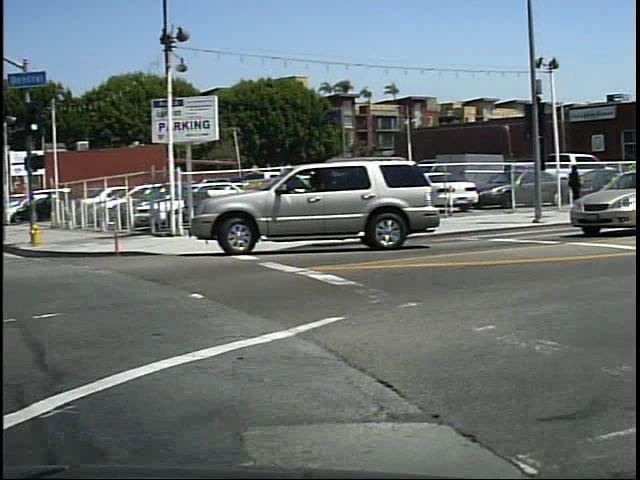person: (568, 162, 591, 216)
